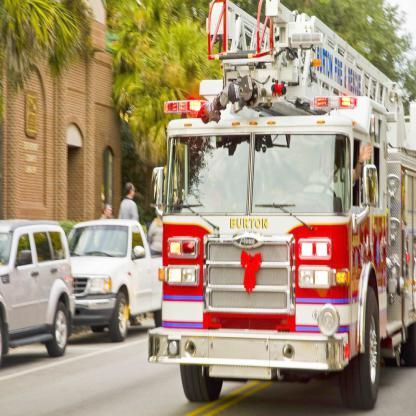Car: (0, 218, 74, 361)
Truck: (153, 48, 397, 414)
